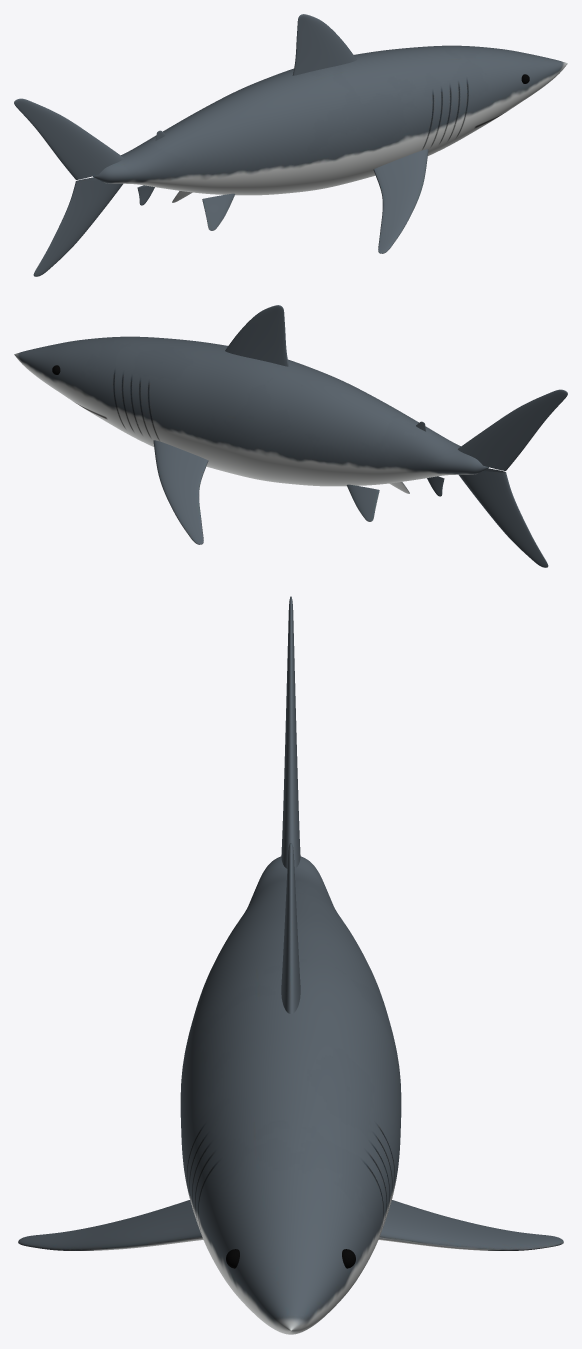
File: greatWhite.glb
The picture shows the model from 3 angles, top to bottom: view 1: azimuth 30°, elevation 25°; view 2: azimuth 150°, elevation 25°; view 3: azimuth 270°, elevation 25°; orthographic projection. The views are drawn at different scales.
Parts seen in each view (by area): view 1: skin; view 2: skin; view 3: skin.
Boxes of the visible parts, box(x1,y1,x2,y2) form: skin: box(14, 14, 567, 276); skin: box(14, 305, 567, 567); skin: box(18, 596, 563, 1334).
Size of the model in its own units: 3.89 by 1.33 by 1.66.
2 materials, 1 textured.
